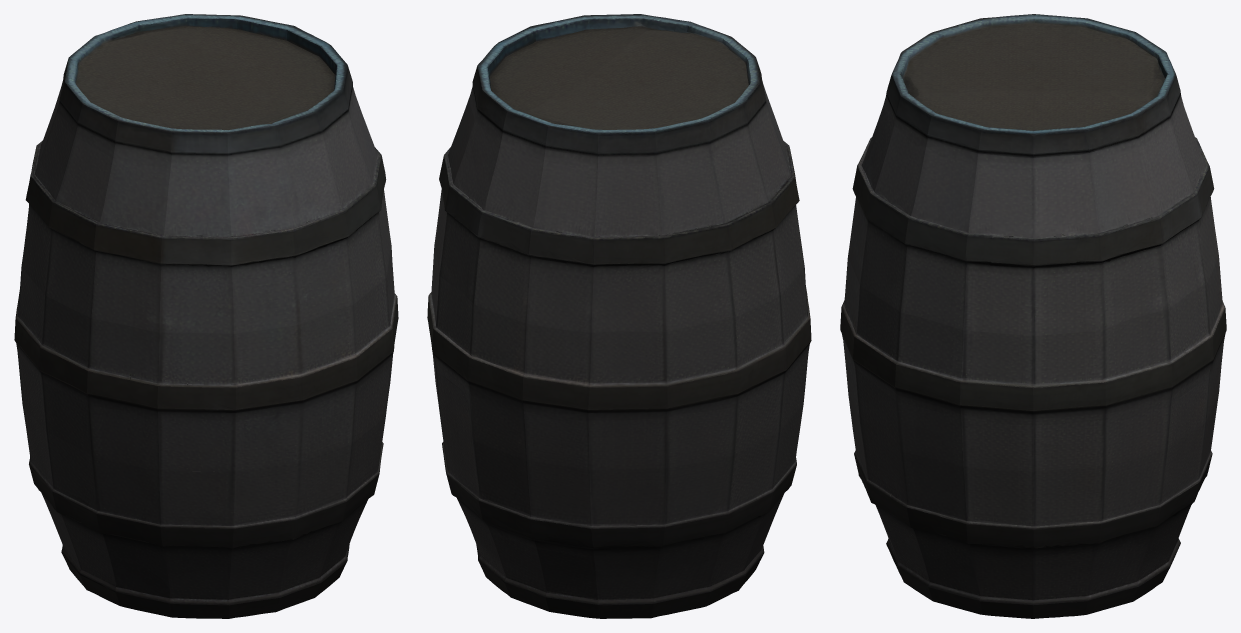
Rendered from source.glb.
3 renders of one model, left to right at view 1: azimuth 30°, elevation 25°; view 2: azimuth 150°, elevation 25°; view 3: azimuth 270°, elevation 25°, orthographic.
Parts seen in each view (by area): view 1: world; view 2: world; view 3: world.
Boxes of the visible parts, <box> form: world: <box>14,14,398,618</box>; world: <box>427,14,811,618</box>; world: <box>840,14,1226,618</box>.
Size of the model in its own units: 0.7183 by 1 by 0.7202.
Materials: 1 (1 with a texture image).
